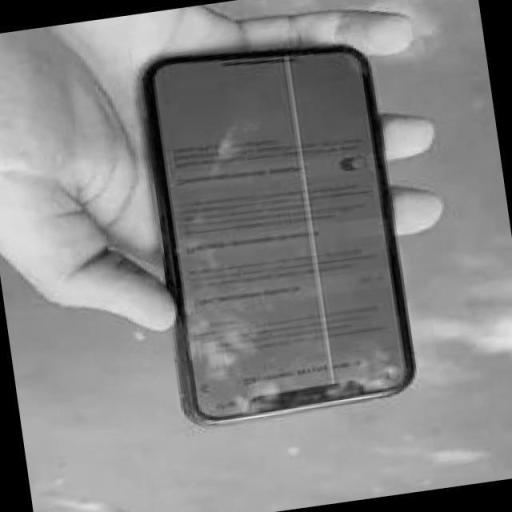phone: (147, 44, 418, 428)
